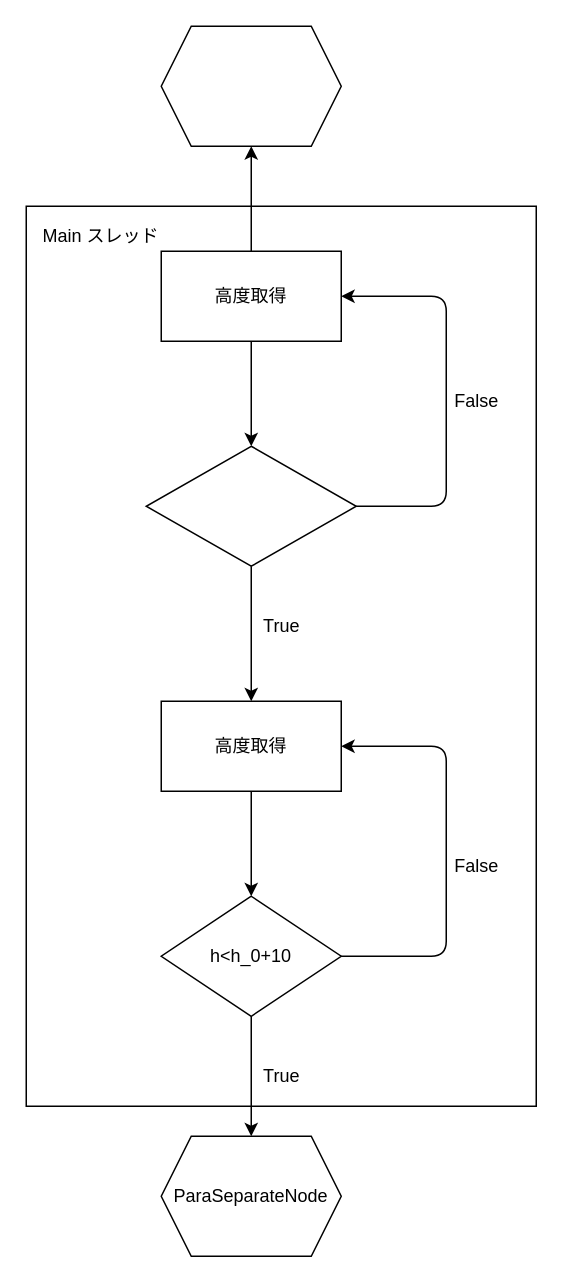
The diagram is 563 pixels wide and 1283 high, and some of its shapes have lost their labels. Each missing label, with the box of its shape:
h>h_0+30: (145, 445, 356, 566)
MissionStandbyNode: (160, 25, 341, 146)
